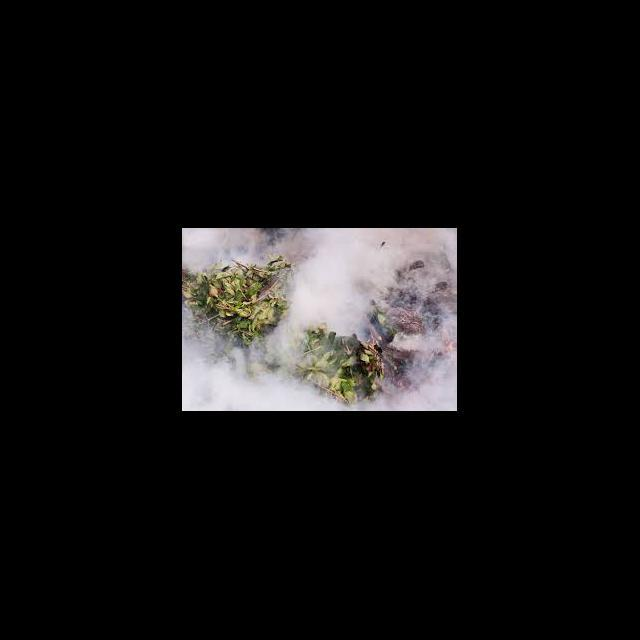Smoke: (300, 232, 388, 334), (182, 352, 320, 411), (184, 228, 256, 272), (402, 360, 457, 410)
